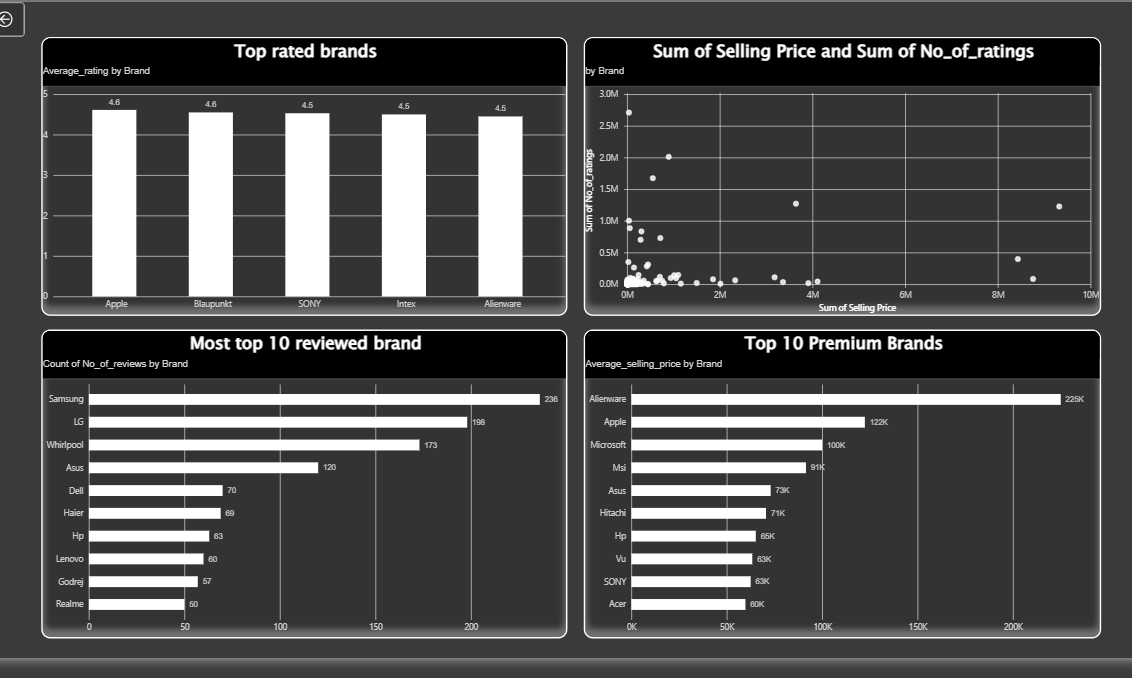

Layout of this report page (visuals, bound fields, positions):
{"tool":"powerbi","page":{"name":"Page 2","canvas":[1920,1080],"ordinal":1},"visuals":[{"type":"columnChart","title":"Top rated brands","fields":{"Category":["Flipkart_Master_Dataset.Brand"],"Y":["Flipkart_Master_Dataset.Average_rating"]},"box":[117.6,112.2,868.6,457.8],"z":0},{"type":"actionButton","box":[0,1022,66,58],"z":1000},{"type":"barChart","title":"Most Reviewed Brands","fields":{"Category":["Flipkart_Master_Dataset.Brand"],"Y":["Flipkart_Master_Dataset.Sum_of_reviews"]},"box":[117.6,588.1,868.6,483.2],"z":2000},{"type":"scatterChart","fields":{"Category":["Flipkart_Master_Dataset.Brand"],"X":["Flipkart_Master_Dataset.Average_selling_price"],"Y":["Flipkart_Master_Dataset.Average_rating"],"Size":["Sum(Flipkart_Master_Dataset.No_of_ratings)"]},"box":[1000.7,112.2,852.4,457.8],"z":3000},{"type":"barChart","title":"Top 10 Premium Brands","fields":{"Category":["Flipkart_Master_Dataset.Brand"],"Y":["Flipkart_Master_Dataset.Average_selling_price"]},"box":[1000.7,588.1,852.4,483.2],"z":4000},{"type":"image","box":[0,0,190,72],"z":5000},{"type":"textbox","title":"Detailed Analysis","box":[767.3,0,436.1,85.1],"z":6000}]}

Visuals, with their boxes on the page's 1920x1080 design canvas (x1, y1, x2, y2). These are canvas units, not pixel positions in the 1132x678 screenshot, which may show the page scaled, cropped or inside an application window:
"Top rated brands" columnChart: x1=118 y1=112 x2=986 y2=570
actionButton: x1=0 y1=1022 x2=66 y2=1080
"Most Reviewed Brands" barChart: x1=118 y1=588 x2=986 y2=1071
scatterChart - Flipkart_Master_Dataset.Brand x Flipkart_Master_Dataset.Average_selling_price: x1=1001 y1=112 x2=1853 y2=570
"Top 10 Premium Brands" barChart: x1=1001 y1=588 x2=1853 y2=1071
image: x1=0 y1=0 x2=190 y2=72
"Detailed Analysis" textbox: x1=767 y1=0 x2=1203 y2=85
